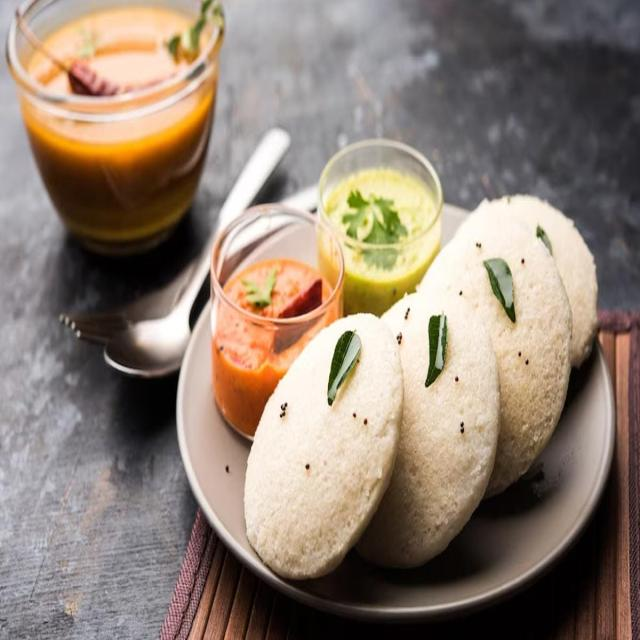Idly: (239, 307, 407, 590), (432, 205, 574, 526), (376, 283, 502, 586)
